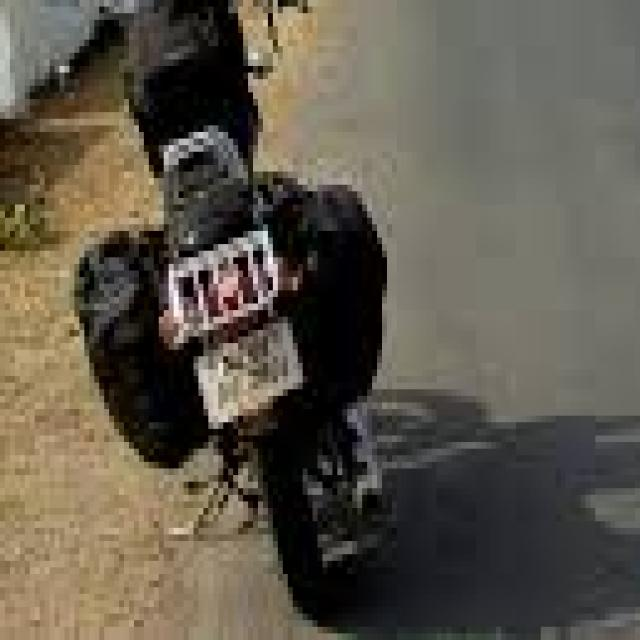bike: (69, 0, 406, 633)
